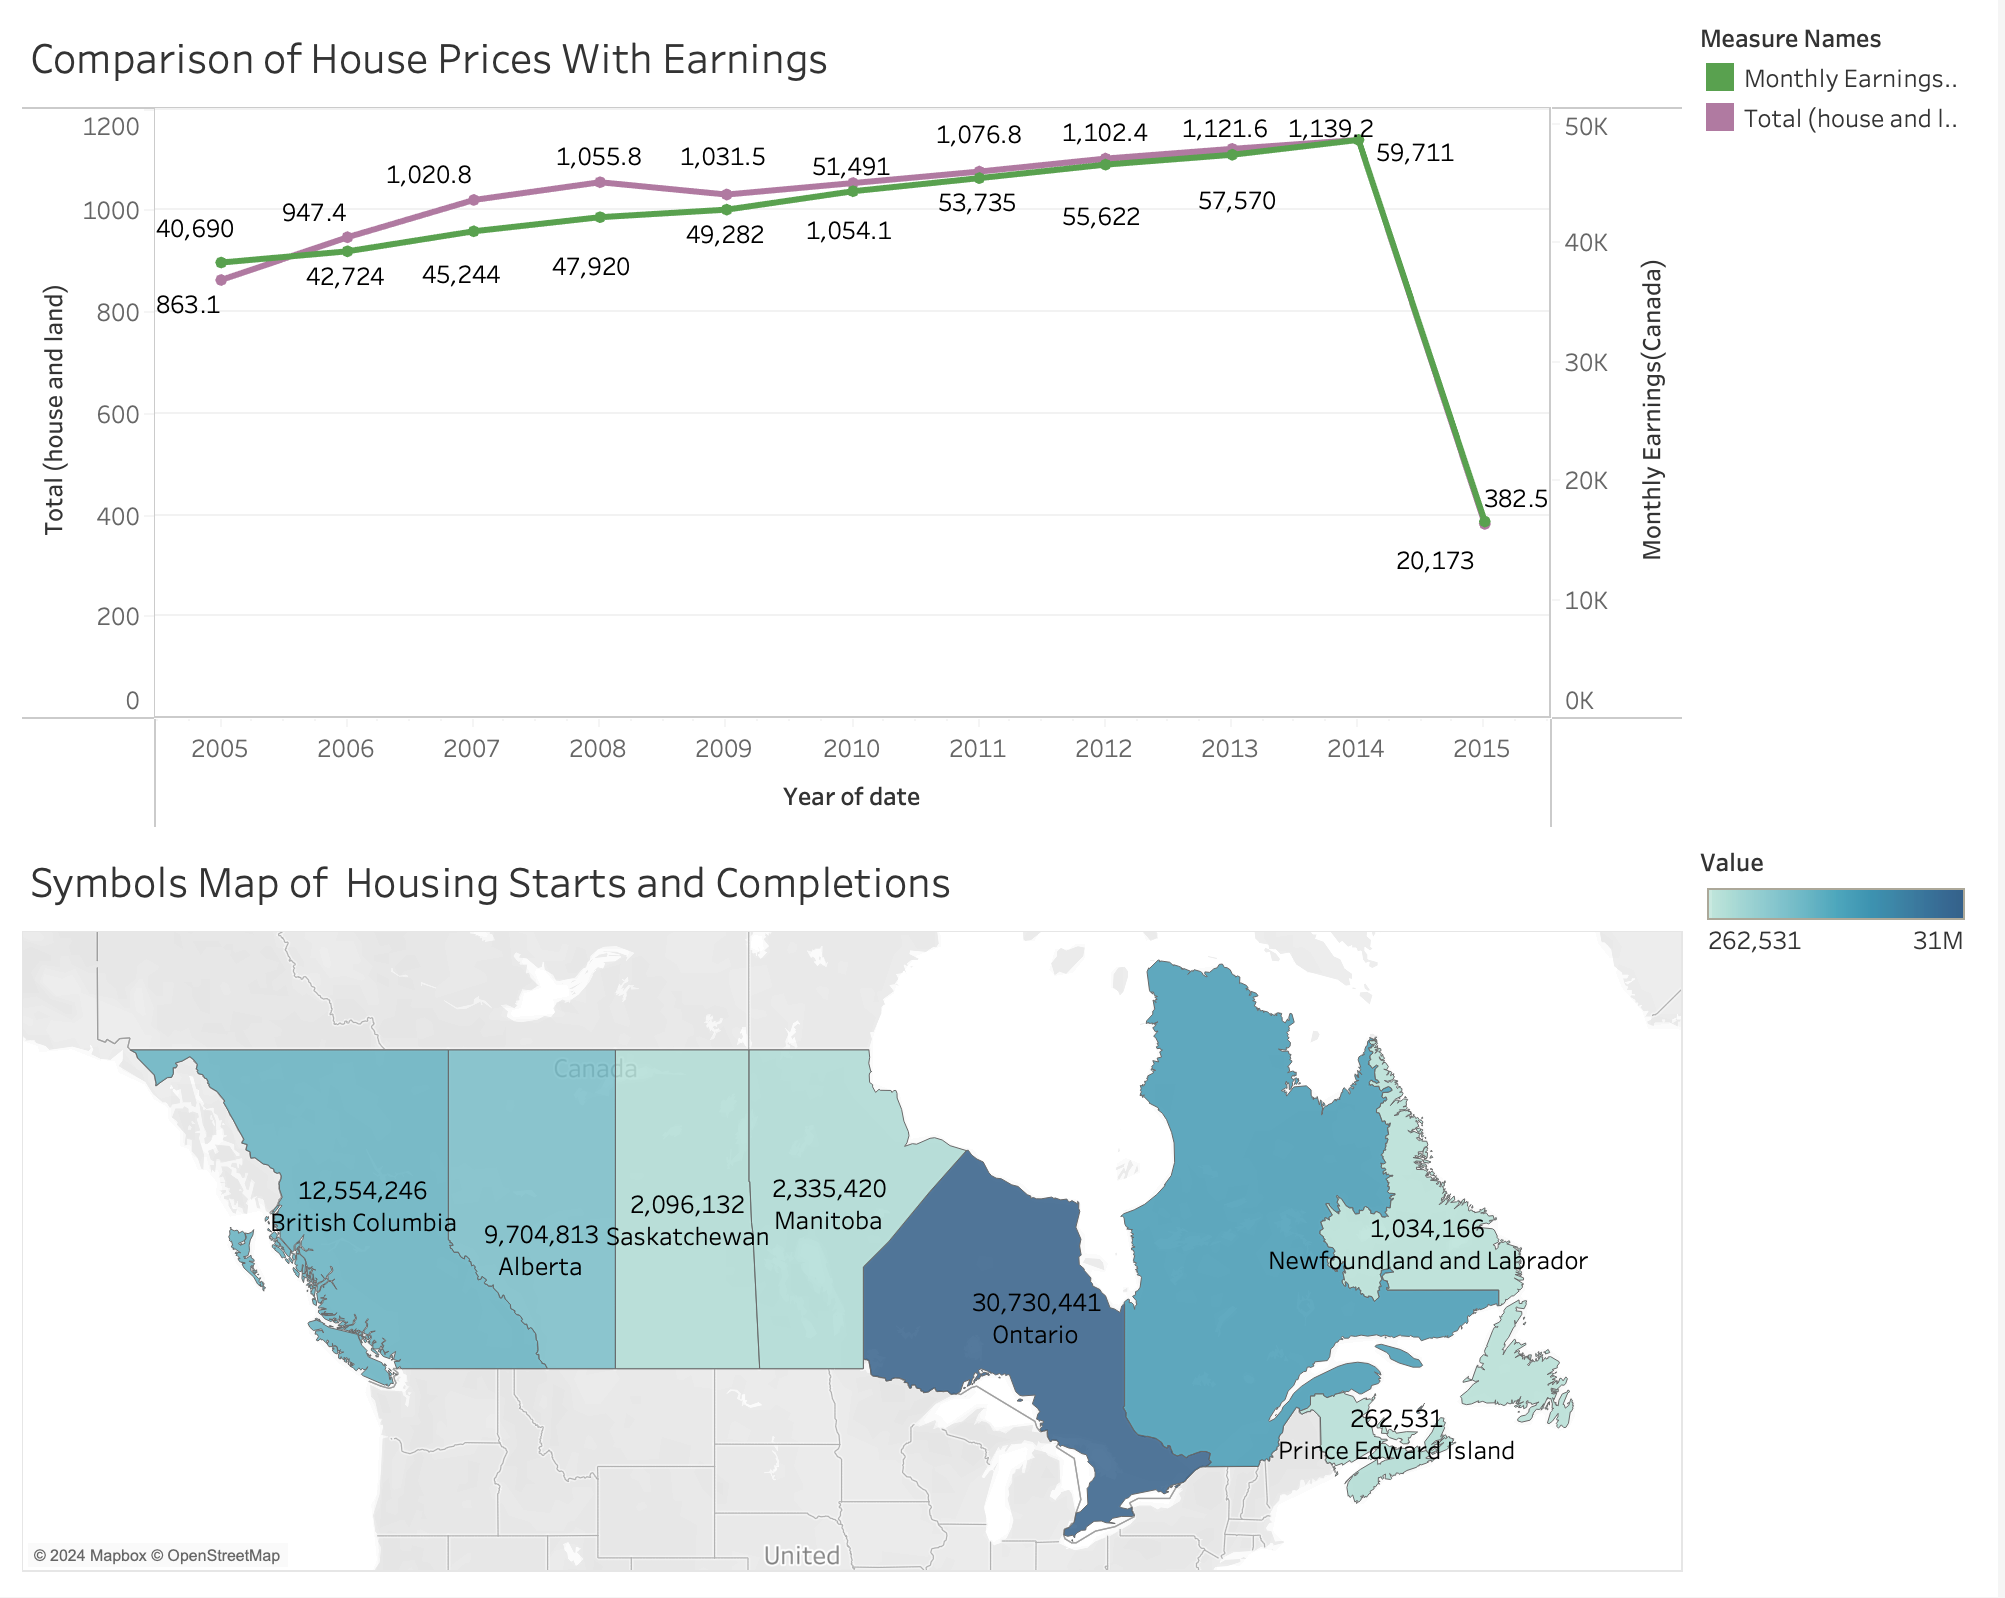

This screenshot's page, from the dashboard's own definition file:
{"tool":"tableau","page":{"name":"Dashboard 3","canvas":[1000,800],"ordinal":2},"visuals":[{"type":"worksheet","title":"Sheet 2","mark":"Automatic","rows":["Composite_Benchmark","Total (house and land)"],"cols":["Date (Extract)"],"box":[8,8,792.9,392]},{"type":"legend","title":"Sheet 2","param":"[federated.10o0wig1yhvyla1cgpyrp14fkeps].[:Measure Names]","box":[800.9,8,191.1,392]},{"type":"worksheet","title":"Sheet 4","mark":"Automatic","rows":["Total (house and land)","index_value (Extract4)"],"cols":["date (Extract4)"],"box":[8,400,792.9,392]},{"type":"legend","title":"Sheet 4","param":"[federated.10o0wig1yhvyla1cgpyrp14fkeps].[:Measure Names]","box":[800.9,400,191.1,392]}]}

Visuals, with their boxes in screenshot pixels (x1, y1, x2, y2), scaled from the page's 1000x800 canvas onto the 2005x1598 screenshot:
"Sheet 2" worksheet: 16 16 1606 799
"Sheet 2" legend: 1606 16 1989 799
"Sheet 4" worksheet: 16 799 1606 1582
"Sheet 4" legend: 1606 799 1989 1582
